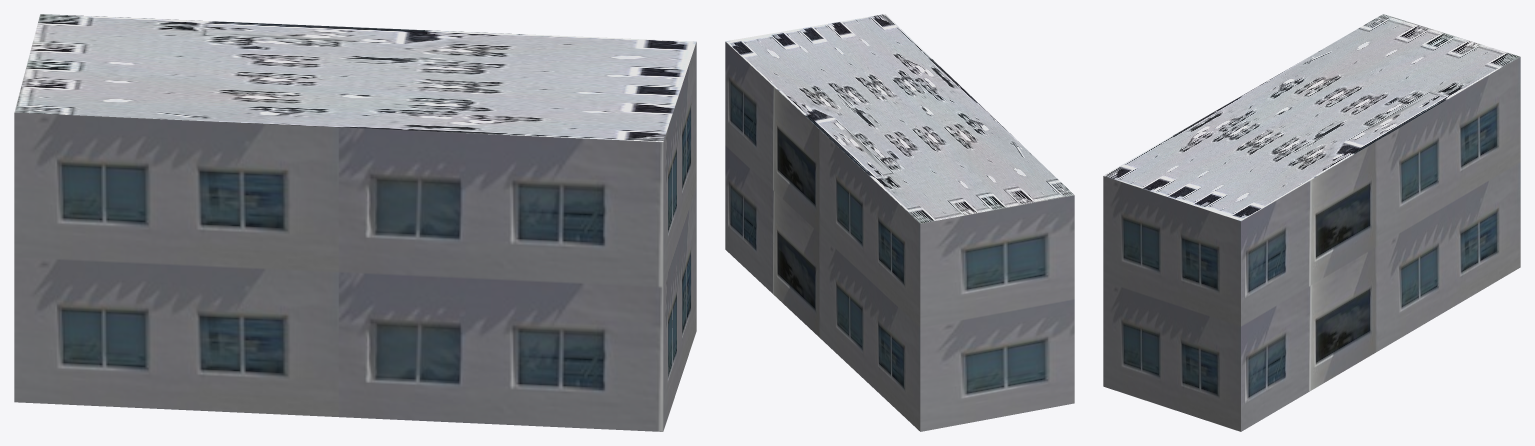
Rendered from ResTex__2900.fbx.
The picture shows the model from 3 angles, left to right: view 1: azimuth 30°, elevation 25°; view 2: azimuth 150°, elevation 25°; view 3: azimuth 270°, elevation 25°; orthographic projection. The views are drawn at different scales.
Parts seen in each view (by area): view 1: CityEngineMaterial_10_m, CityEngineMaterial_m; view 2: CityEngineMaterial_10_m, CityEngineMaterial_m; view 3: CityEngineMaterial_10_m, CityEngineMaterial_m.
Part boxes in pixels (x1=…): CityEngineMaterial_10_m: x1=14, y1=42, x2=696, y2=431; CityEngineMaterial_m: x1=14, y1=14, x2=696, y2=141; CityEngineMaterial_10_m: x1=725, y1=42, x2=1074, y2=431; CityEngineMaterial_m: x1=725, y1=14, x2=1074, y2=223; CityEngineMaterial_10_m: x1=1103, y1=57, x2=1520, y2=431; CityEngineMaterial_m: x1=1103, y1=14, x2=1519, y2=220.
Bounding box in the file's own units: 12.66 × 6 × 10.77.
Materials: 2 (2 with a texture image).
